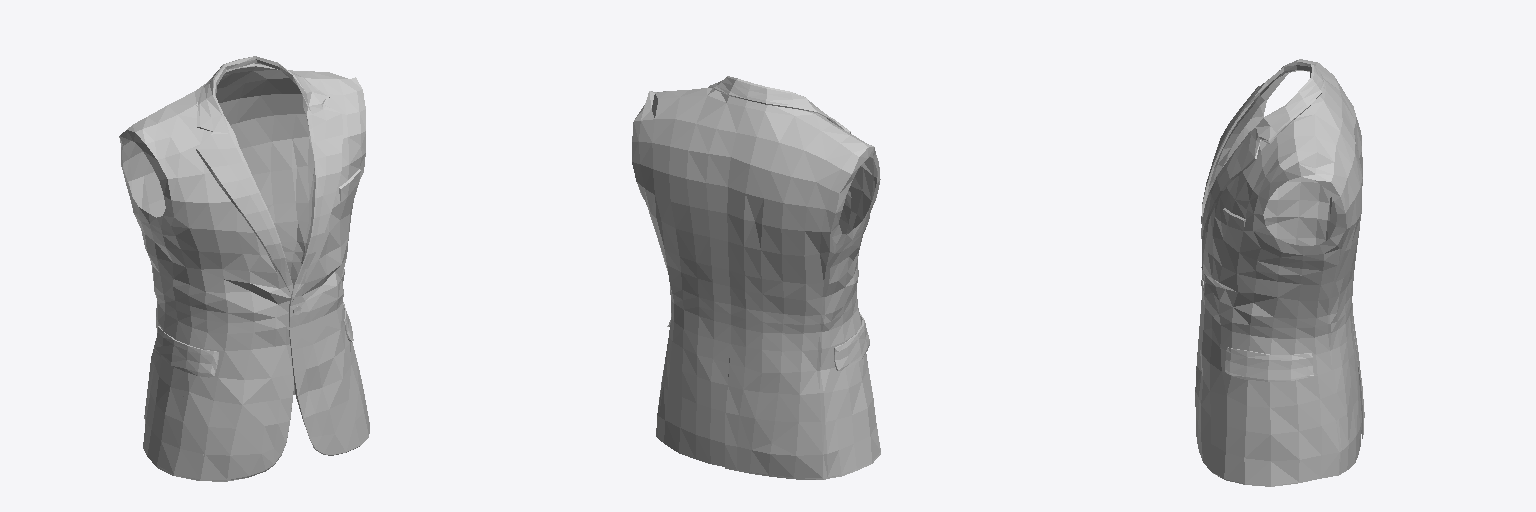
Rendered from chaleco.obj.
3 renders of one model, left to right at view 1: azimuth 30°, elevation 25°; view 2: azimuth 150°, elevation 25°; view 3: azimuth 270°, elevation 25°, orthographic.
Visible parts, largest first — view 1: 4_Object08_0_1_16_16; view 2: 4_Object08_0_1_16_16; view 3: 4_Object08_0_1_16_16.
Part boxes in pixels (x1,y1,x2,y2): 4_Object08_0_1_16_16: (119,56,369,481); 4_Object08_0_1_16_16: (632,76,880,479); 4_Object08_0_1_16_16: (1195,59,1364,486).
Bounding box in the file's own units: 43.41 × 68.91 × 28.6.